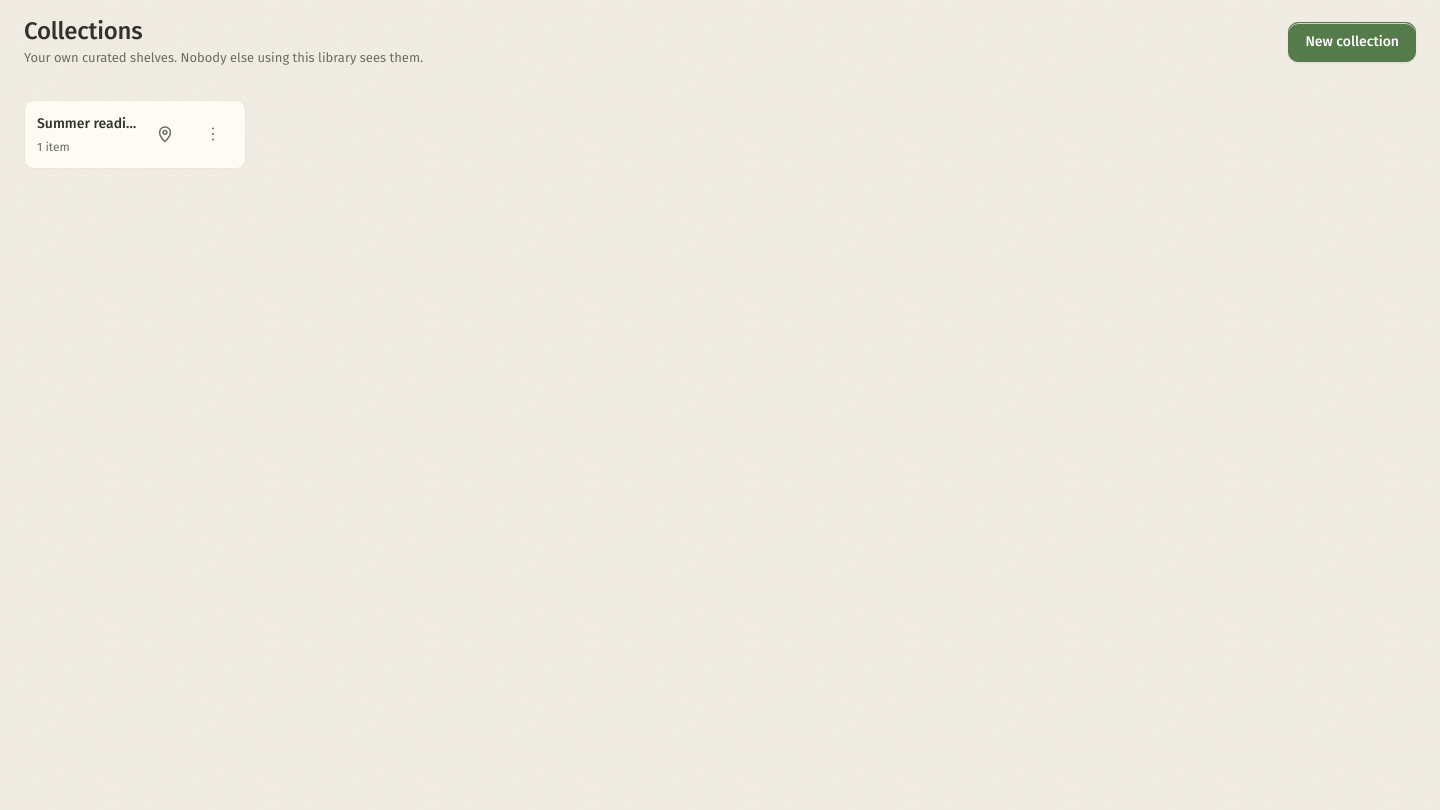
CollectionsPage › deletes a collection after confirming the dialog
Expected: the list with test id "collections-grid" is shown, [24,100,246,168]
Click the button with test id "open-collection-Summer reading": [87, 134] box [37,112,137,156]
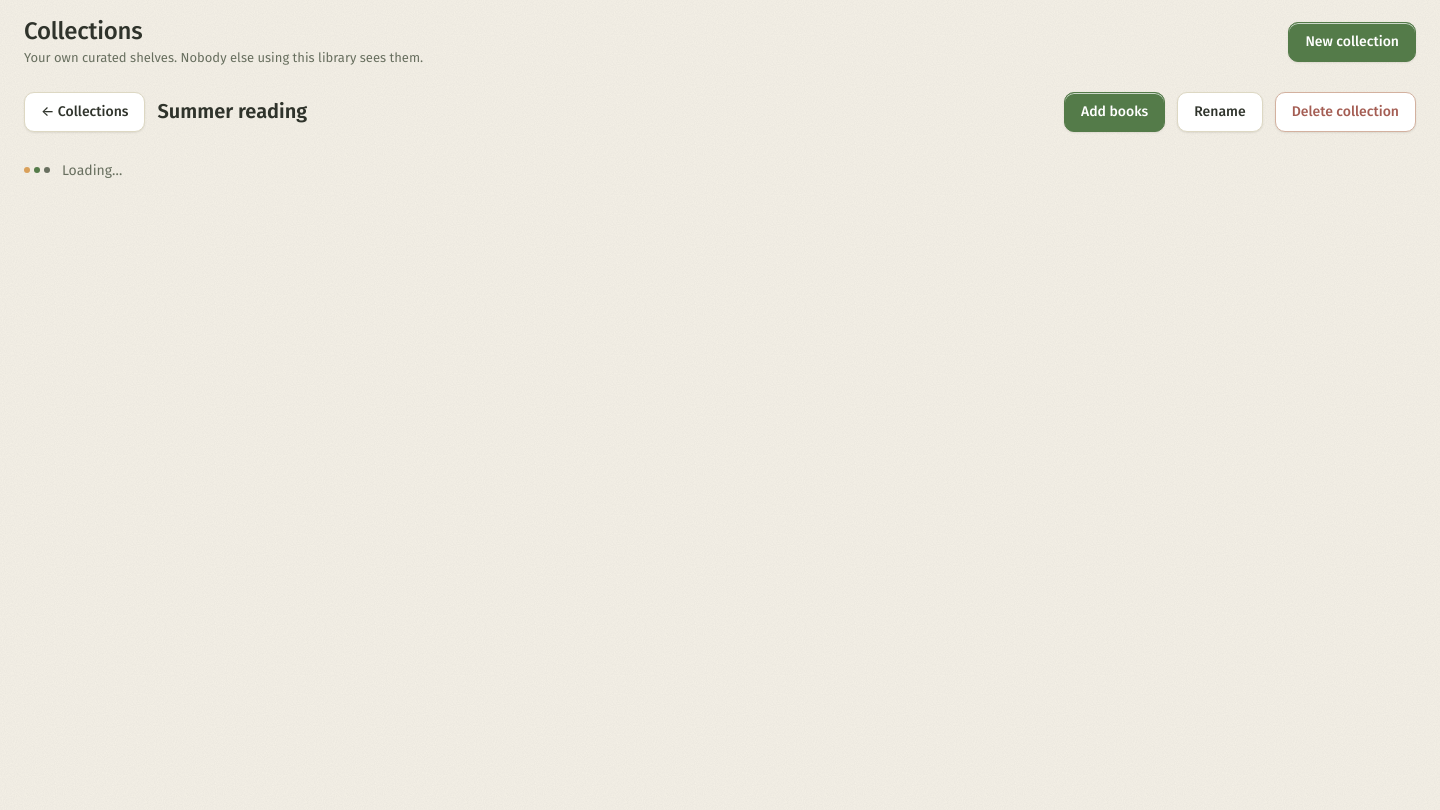
Now the element with test id "collection-detail" is shown, box [24,92,1416,192]
Click the button "Delete collection": [1345, 112] box [1275,92,1416,132]
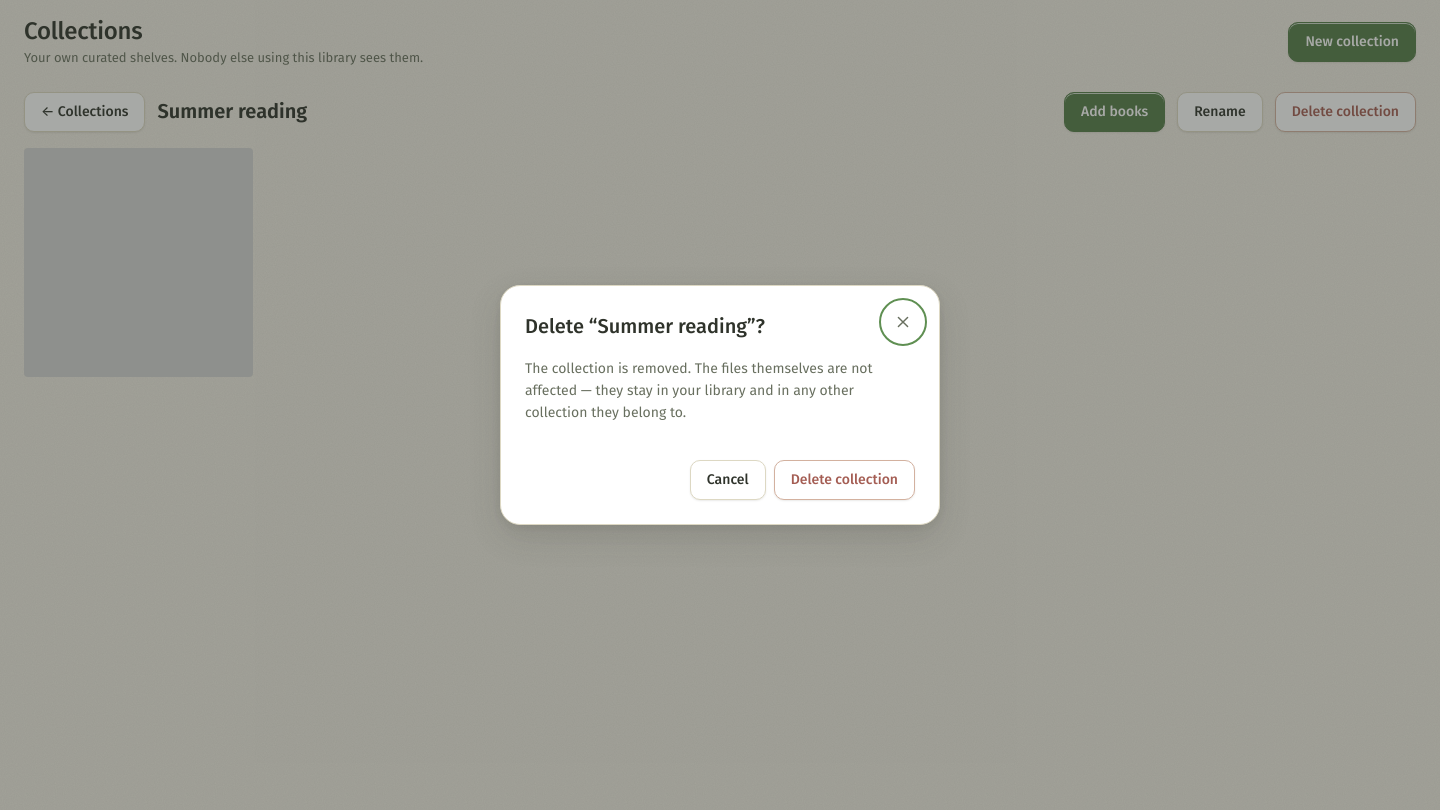
Click the button "Delete collection": [844, 480] box [774,460,915,500]
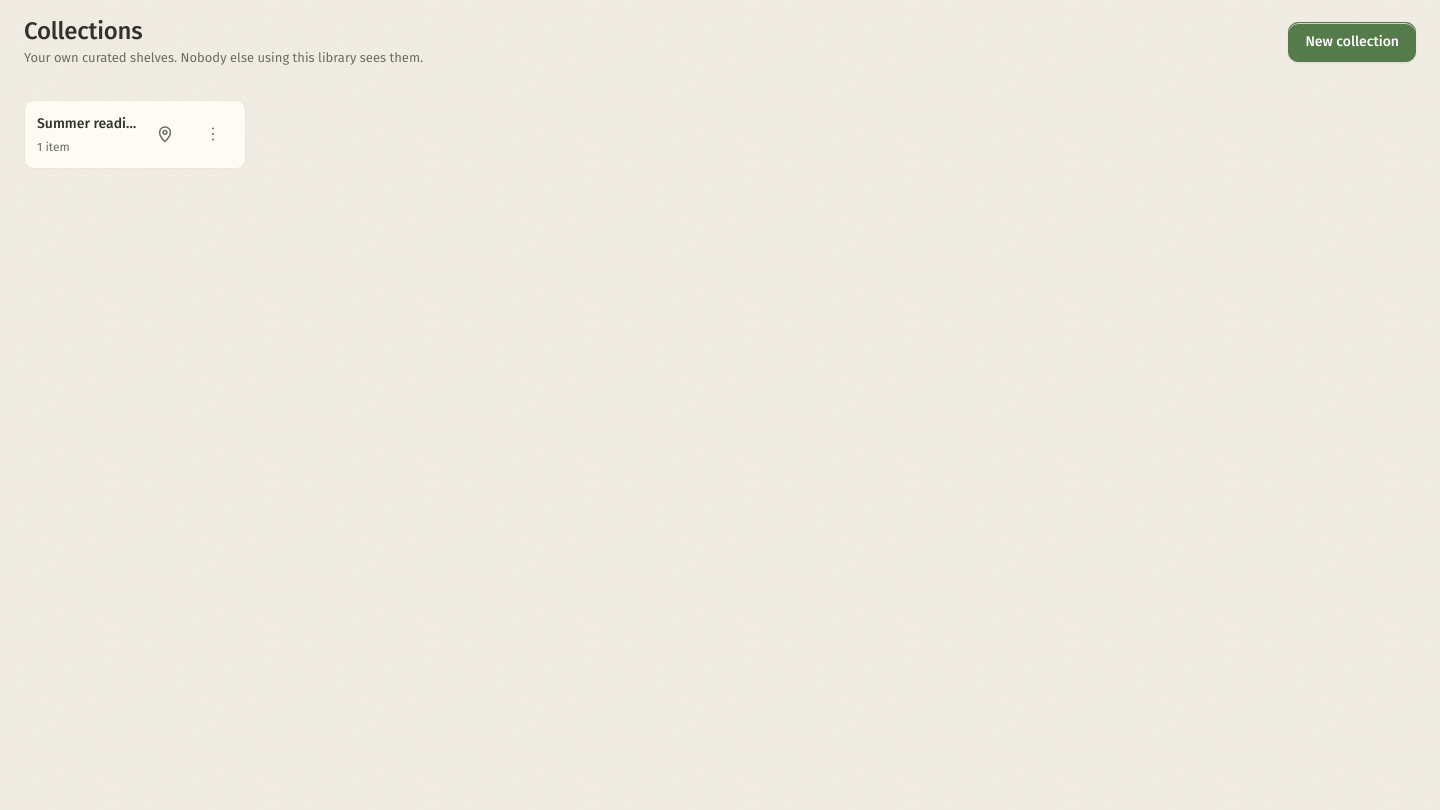
Now the list with test id "collections-grid" is shown, box [24,100,246,168]
